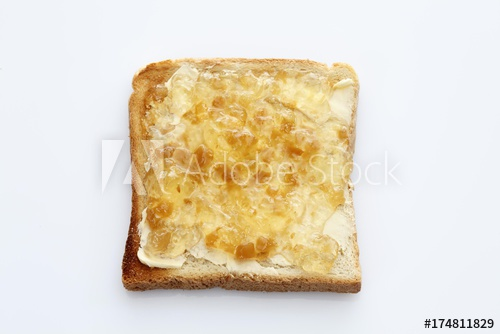slice of bread: (114, 45, 376, 310)
